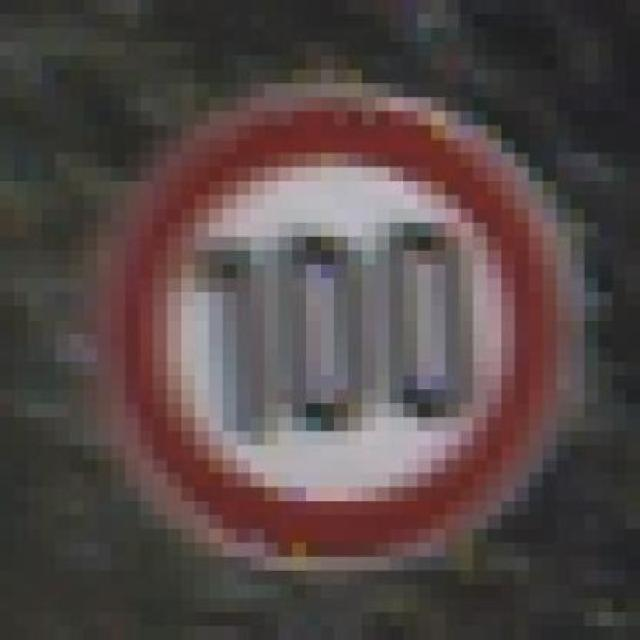forb_speed_over_100: (112, 95, 563, 563)
